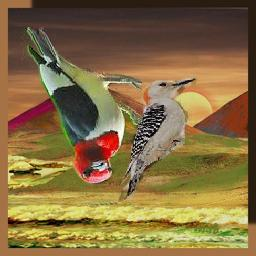Woodpecker: (22, 27, 143, 185), (117, 72, 197, 202)
